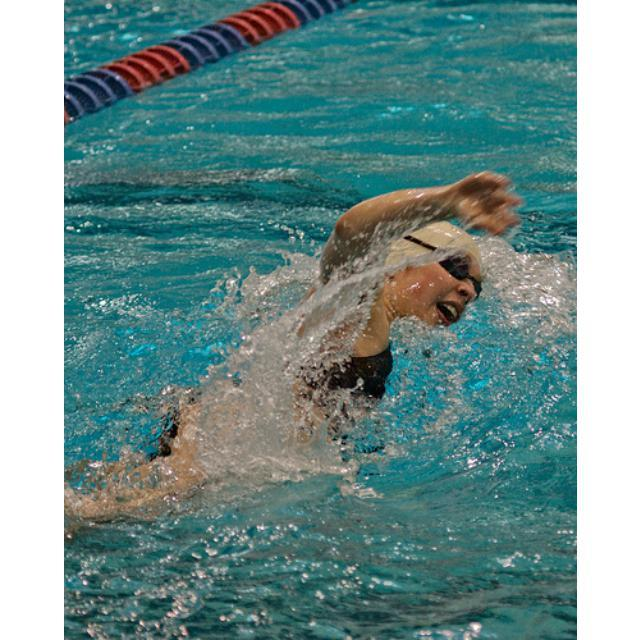human: (75, 166, 523, 528)
